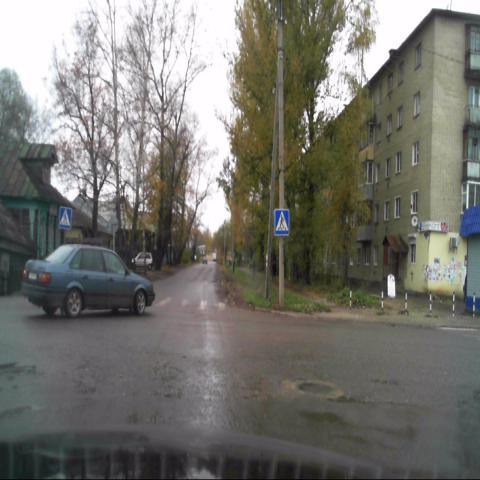5_19_1: (273, 209, 291, 236), (58, 205, 72, 230)
